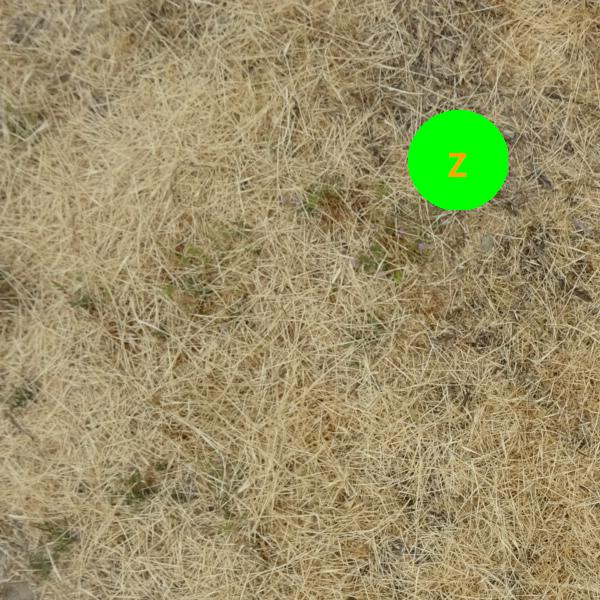Circle: (408, 110, 508, 210)
